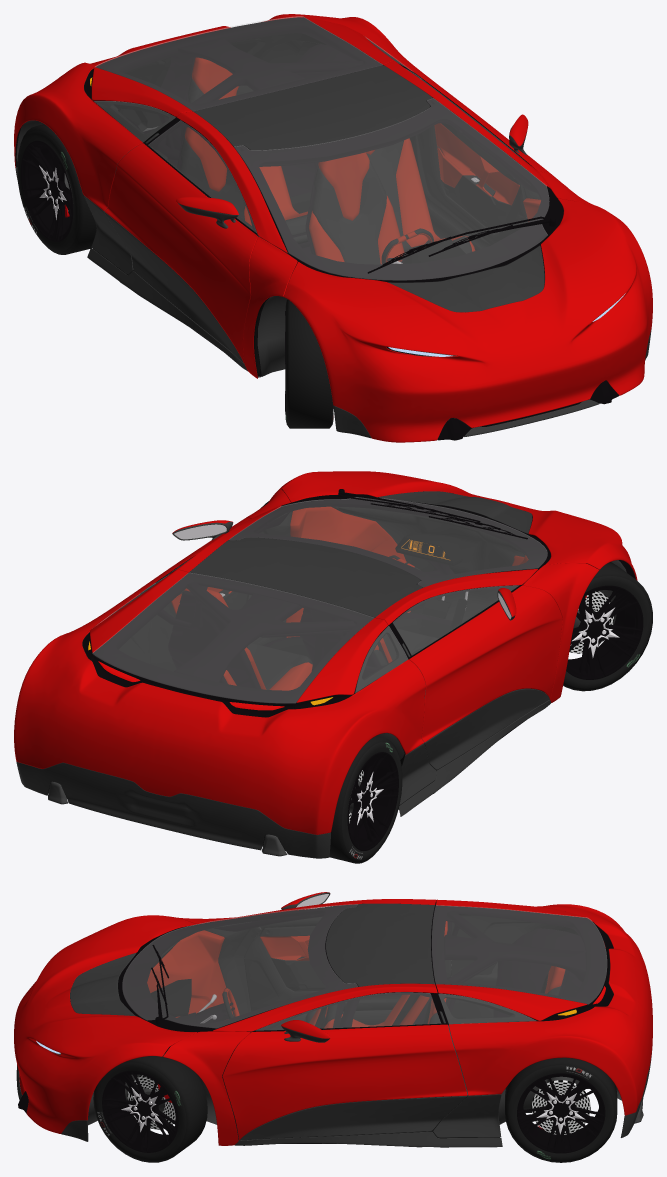
File: car-concept-studio-meshopt.glb
3 views of the same model, one above another, from view 1: azimuth 30°, elevation 25°; view 2: azimuth 150°, elevation 25°; view 3: azimuth 270°, elevation 25° (orthographic). The views are drawn at different scales.
Visible parts, largest first — view 1: BodyHood, BodyWindshield, BodyRearwindow, BodyDoorRColor1, BodyRearPanelsColor1, BodyRoofPanel, BodyWindshieldGasket, InteriorSeatsColor1, InteriorSeatsColor2, BodyPillars, InteriorPillar, InteriorRearHatch (+21 smaller); view 2: BodyRearPanelsColor1, BodyRearwindow, BodyWindshield, BodyPanelsColor2, BodyDoorRColor1, BodyRoofPanel, BodyHood, InteriorRearHatch, BodyPillars, InteriorPillar, BodyWindshieldGasket, InteriorDashMid (+21 smaller); view 3: BodyRearPanelsColor1, BodyWindshield, BodyDoorLColor1, BodyHood, BodyRearwindow, BodyRoofPanel, BodyPillars, BodyWindshieldGasket, BodyDoorLColor2, BodyPanelsColor2, WheelFrontL, InteriorRearHatch (+25 smaller).
Part boxes in pixels (x1=…): BodyHood: x1=283, y1=198, x2=652, y2=442; BodyWindshield: x1=234, y1=98, x2=549, y2=280; BodyRearwindow: x1=95, y1=16, x2=382, y2=110; BodyDoorRColor1: x1=104, y1=143, x2=257, y2=362; BodyRearPanelsColor1: x1=14, y1=14, x2=428, y2=210; BodyRoofPanel: x1=193, y1=65, x2=432, y2=150; BodyWindshieldGasket: x1=234, y1=99, x2=563, y2=282; InteriorSeatsColor1: x1=185, y1=57, x2=475, y2=264; InteriorSeatsColor2: x1=180, y1=78, x2=472, y2=264; BodyPillars: x1=176, y1=61, x2=598, y2=378; InteriorPillar: x1=158, y1=37, x2=434, y2=168; InteriorRearHatch: x1=93, y1=17, x2=383, y2=117; BodyRearPanelsColor1: x1=14, y1=569, x2=425, y2=834; BodyRearwindow: x1=92, y1=573, x2=373, y2=703; BodyWindshield: x1=229, y1=497, x2=547, y2=587; BodyPanelsColor2: x1=16, y1=700, x2=550, y2=858; BodyDoorRColor1: x1=409, y1=585, x2=562, y2=742; BodyRoofPanel: x1=189, y1=537, x2=422, y2=617; BodyHood: x1=279, y1=471, x2=637, y2=580; InteriorRearHatch: x1=93, y1=573, x2=386, y2=707; BodyPillars: x1=175, y1=489, x2=599, y2=702; InteriorPillar: x1=174, y1=574, x2=417, y2=682; BodyWindshieldGasket: x1=230, y1=497, x2=550, y2=587; InteriorDashMid: x1=331, y1=503, x2=528, y2=622; BodyRearPanelsColor1: x1=436, y1=899, x2=652, y2=1115; BodyWindshield: x1=122, y1=904, x2=357, y2=1028; BodyDoorLColor1: x1=222, y1=1024, x2=467, y2=1139; BodyHood: x1=14, y1=915, x2=196, y2=1133; BodyRearwindow: x1=432, y1=905, x2=606, y2=1003; BodyRoofPanel: x1=326, y1=903, x2=434, y2=986; BodyPillars: x1=163, y1=899, x2=437, y2=1145; BodyWindshieldGasket: x1=118, y1=905, x2=357, y2=1032; BodyDoorLColor2: x1=240, y1=1096, x2=467, y2=1140; BodyPanelsColor2: x1=16, y1=1050, x2=652, y2=1147; WheelFrontL: x1=93, y1=1054, x2=207, y2=1162; InteriorRearHatch: x1=431, y1=905, x2=606, y2=1020.
Size of the model in its own units: 2.54 by 1.15 by 4.36.
Materials: 22 (5 with a texture image).
